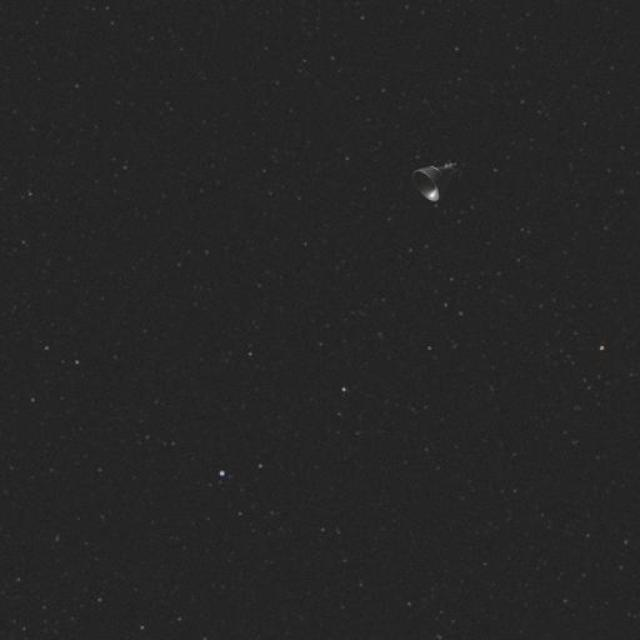debris: (401, 156, 466, 206)
